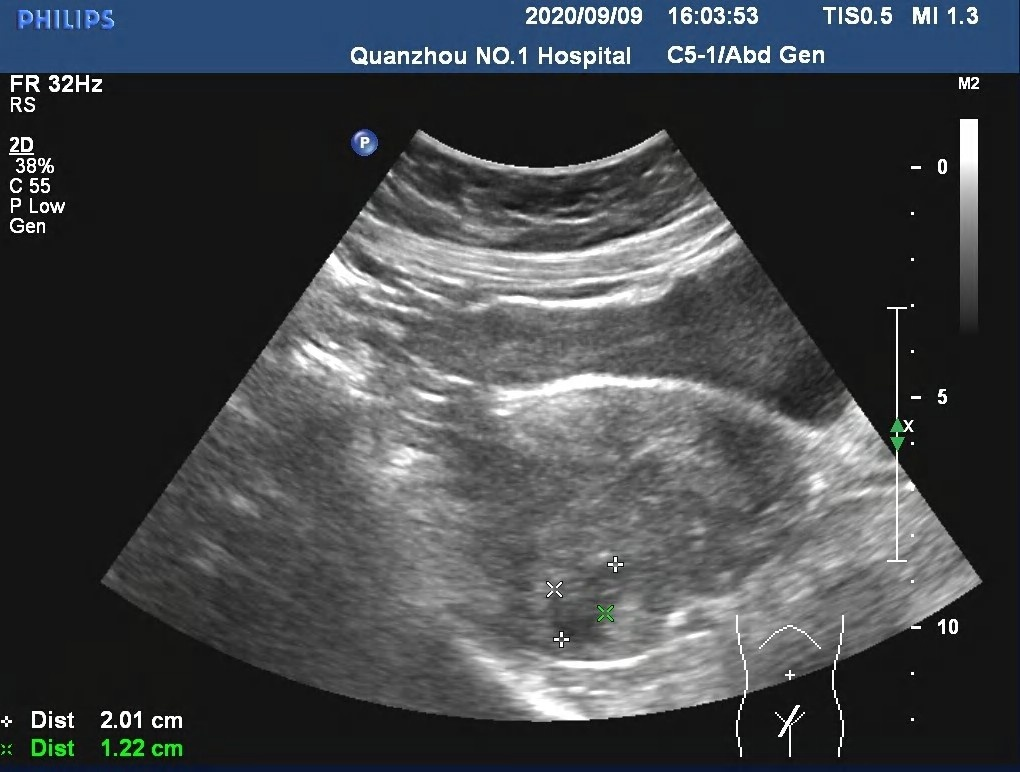肌瘤: (553, 564, 617, 640)
